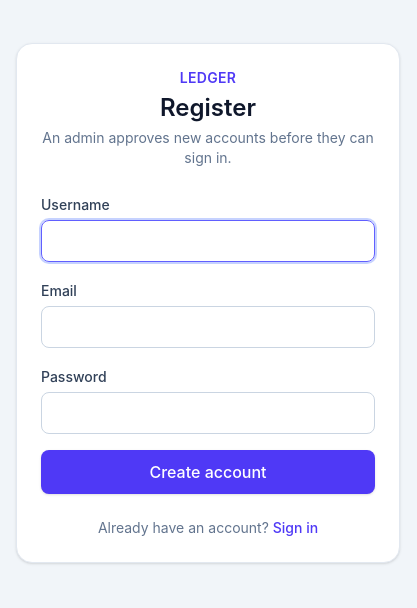
given the register page › reports a taken username
Type "alice" into the field labelled "Username" at x=208, y=241, box left=41, top=220, right=375, bottom=262
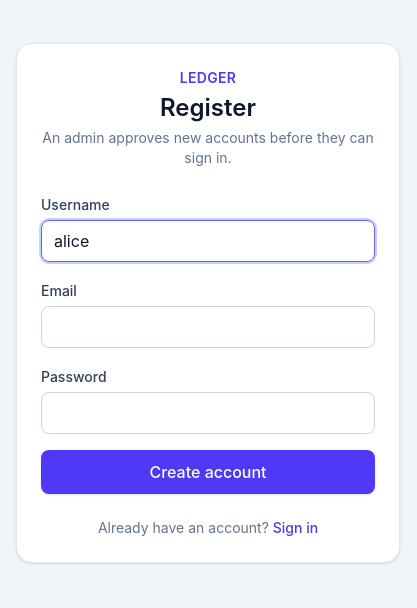
Type "alice@example.com" into the field labelled "Email" at x=208, y=327, box left=41, top=306, right=375, bottom=348
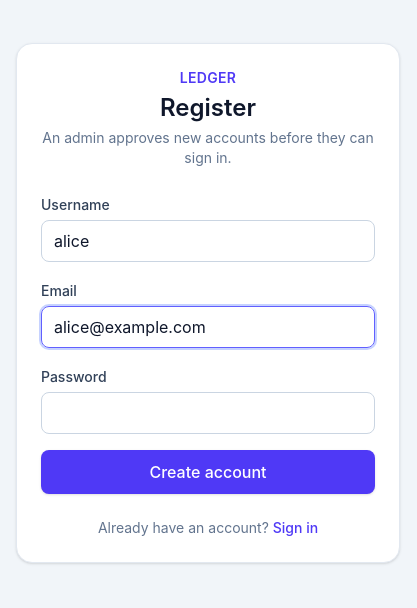
Type "whatever" into the password field labelled "Password" at x=208, y=413, box left=41, top=392, right=375, bottom=434
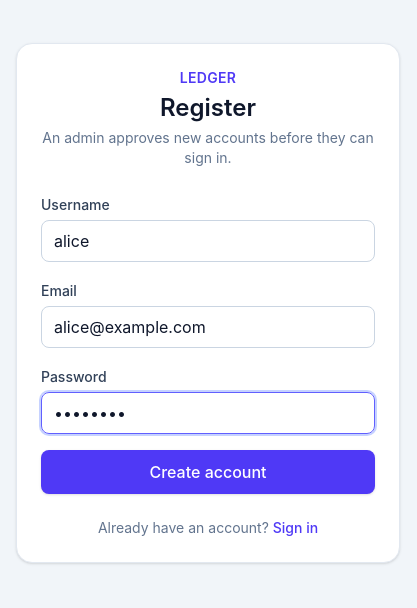
Click the button "Create account" at x=208, y=472, box left=41, top=450, right=375, bottom=494
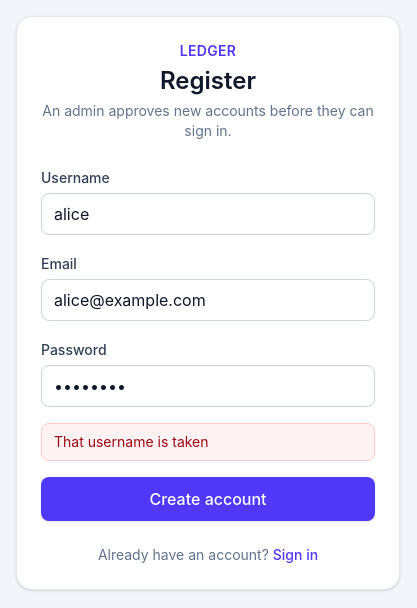
Expected: the message shows "taken", left=54, top=433, right=208, bottom=450
